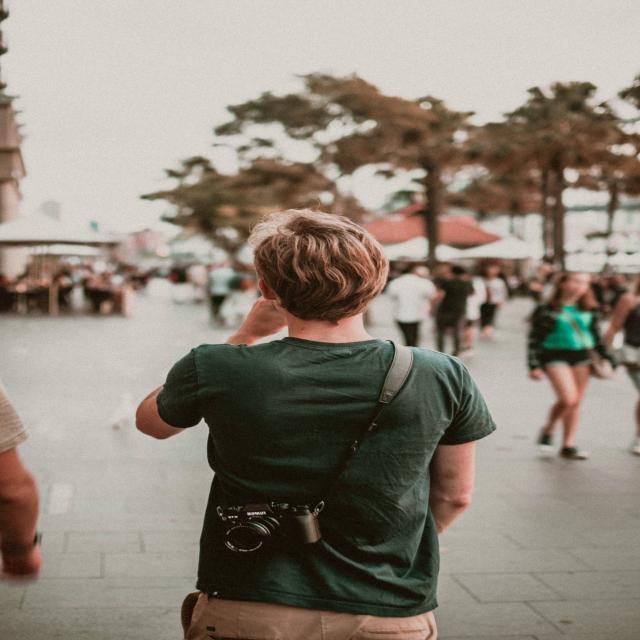adult: (134, 212, 479, 640), (526, 271, 609, 462)
